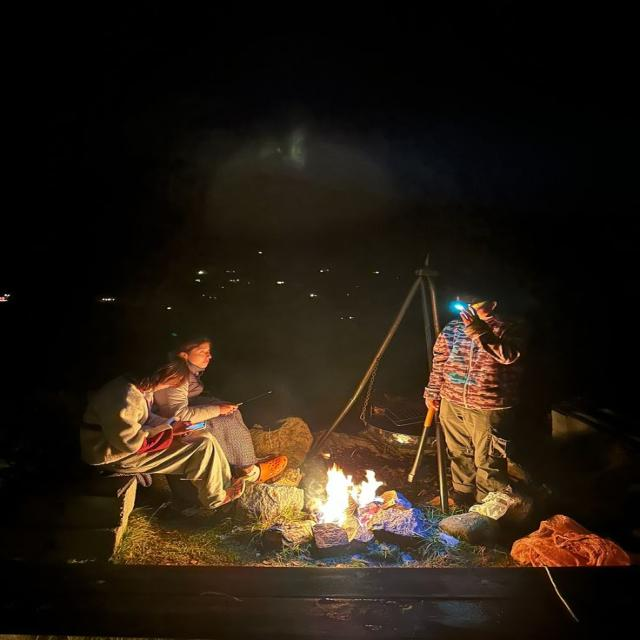fire: (316, 463, 351, 527), (345, 470, 384, 508)
